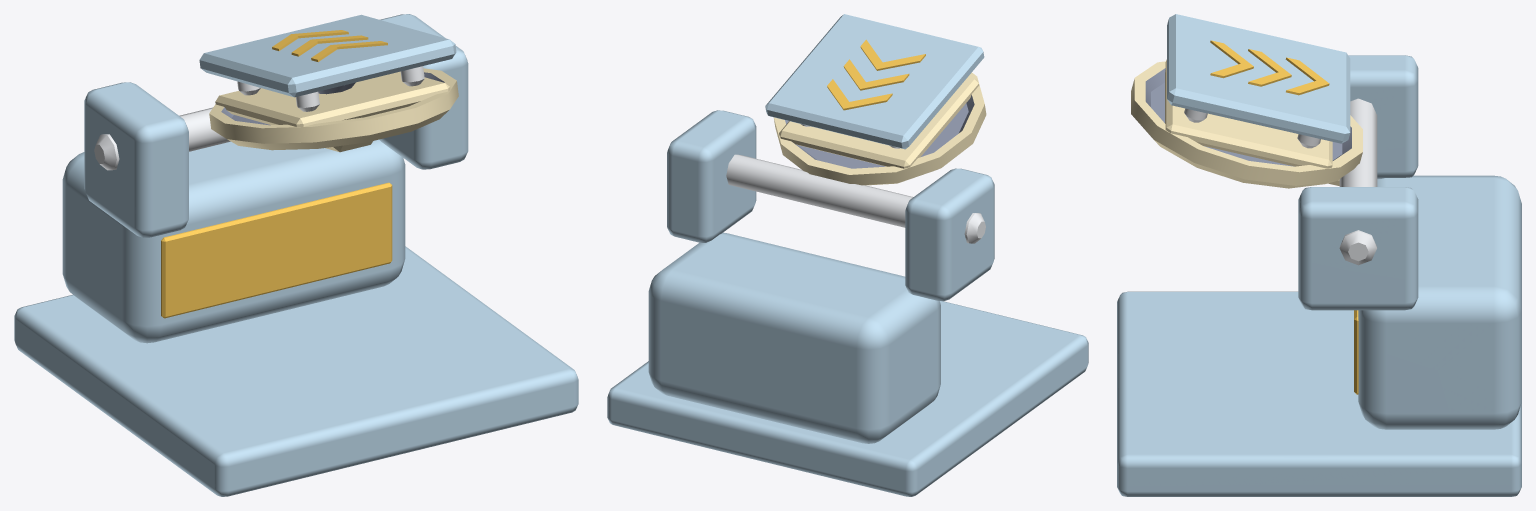
The model's file is R4X_KnockbackTrapDeployer.fbx.
The picture shows the model from 3 angles, left to right: view 1: azimuth 30°, elevation 25°; view 2: azimuth 150°, elevation 25°; view 3: azimuth 270°, elevation 25°; orthographic projection. The views are drawn at different scales.
Visible parts, largest first — view 1: R4X_KnockbackTrapDeployer_Body, R4X_KnockbackTrapDeployer_Payload; view 2: R4X_KnockbackTrapDeployer_Body, R4X_KnockbackTrapDeployer_Payload; view 3: R4X_KnockbackTrapDeployer_Body, R4X_KnockbackTrapDeployer_Payload.
Boxes of the visible parts, x1,y1,x2,y2 form: R4X_KnockbackTrapDeployer_Body: [14, 14, 578, 496]; R4X_KnockbackTrapDeployer_Payload: [199, 14, 456, 126]; R4X_KnockbackTrapDeployer_Body: [607, 72, 1088, 496]; R4X_KnockbackTrapDeployer_Payload: [765, 14, 984, 168]; R4X_KnockbackTrapDeployer_Body: [1117, 55, 1521, 496]; R4X_KnockbackTrapDeployer_Payload: [1165, 14, 1350, 168].
Bounding box in the file's own units: 0.52 × 0.5167 × 0.52.
